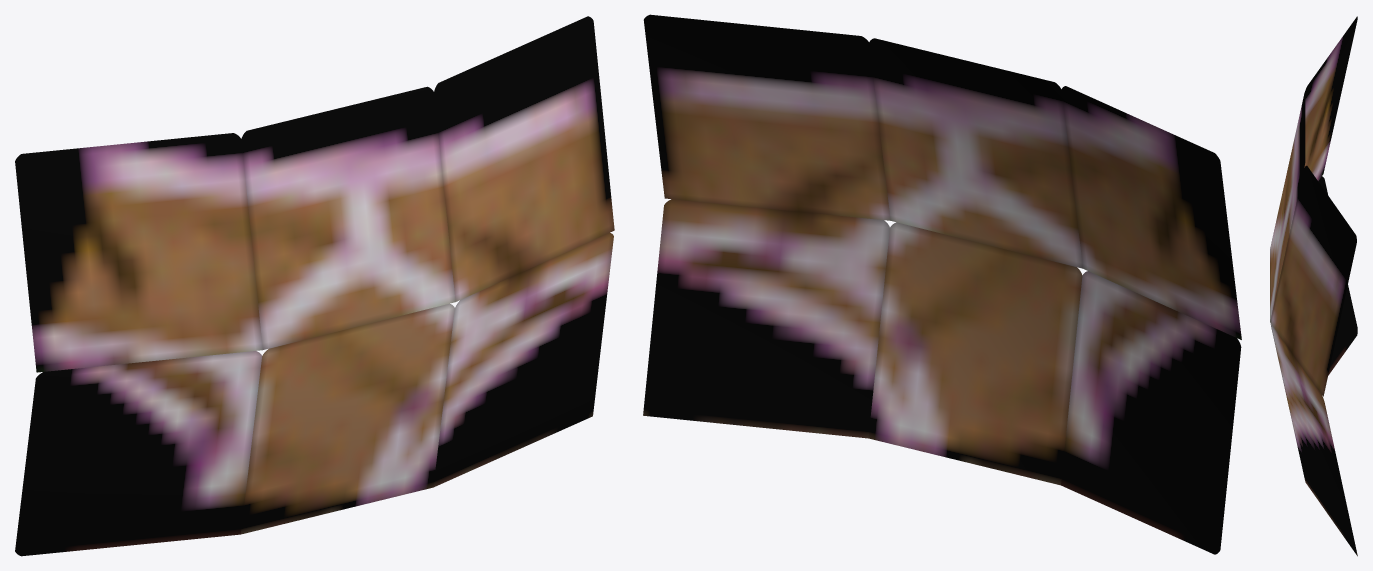
The picture shows the model from 3 angles, left to right: view 1: azimuth 30°, elevation 25°; view 2: azimuth 150°, elevation 25°; view 3: azimuth 270°, elevation 25°; orthographic projection. The views are drawn at different scales.
Parts seen in each view (by area): view 1: T1L2M009_49; view 2: T1L2M009_49; view 3: T1L2M009_49.
Part boxes in pixels (x1,y1,x2,y2): T1L2M009_49: (15,16,614,556); T1L2M009_49: (643,14,1241,554); T1L2M009_49: (1270,16,1357,556).
Bounding box in the file's own units: 0.6006 × 0.3994 × 0.1006.
